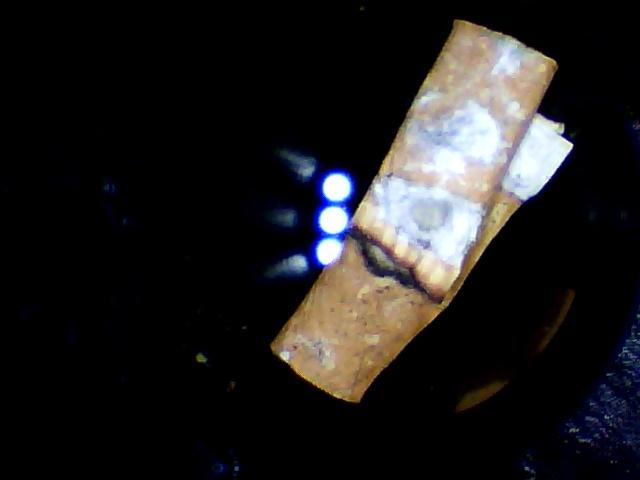megot: (256, 8, 586, 419)
